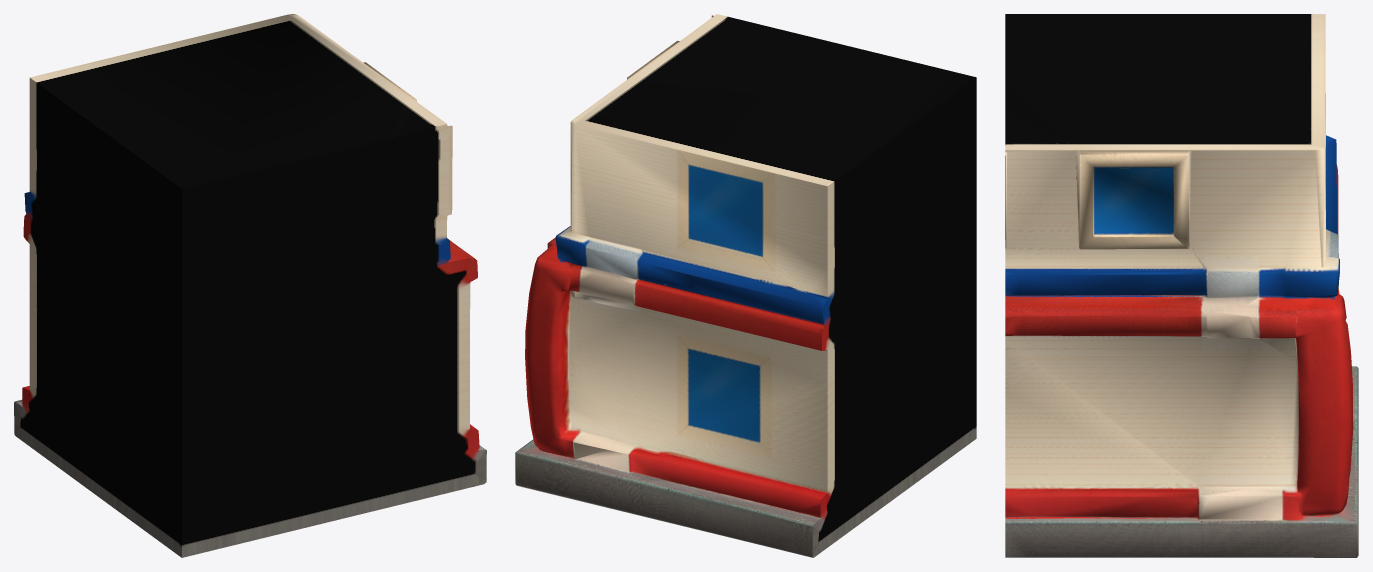
The model's file is 4-ground-floor-back-right.fbx.
3 views of the same model, side by side, from view 1: azimuth 30°, elevation 25°; view 2: azimuth 150°, elevation 25°; view 3: azimuth 270°, elevation 25° (orthographic). The views are drawn at different scales.
Parts seen in each view (by area): view 1: ground-floor-back-right; view 2: ground-floor-back-right; view 3: ground-floor-back-right.
Part boxes in pixels (box(x1,y1,x2,y2)): ground-floor-back-right: box(14, 14, 486, 557); ground-floor-back-right: box(515, 14, 976, 557); ground-floor-back-right: box(1005, 14, 1358, 557).
Size of the model in its own units: 8997 by 10403 by 8570.
1 material, 1 textured.
